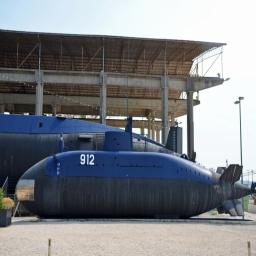submarine: (19, 151, 256, 221), (2, 115, 190, 192)
